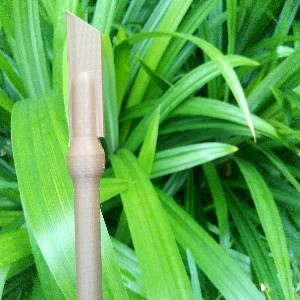cutter: (63, 10, 104, 300)
